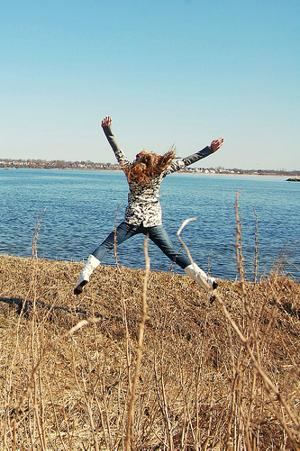person: (72, 117, 225, 299)
